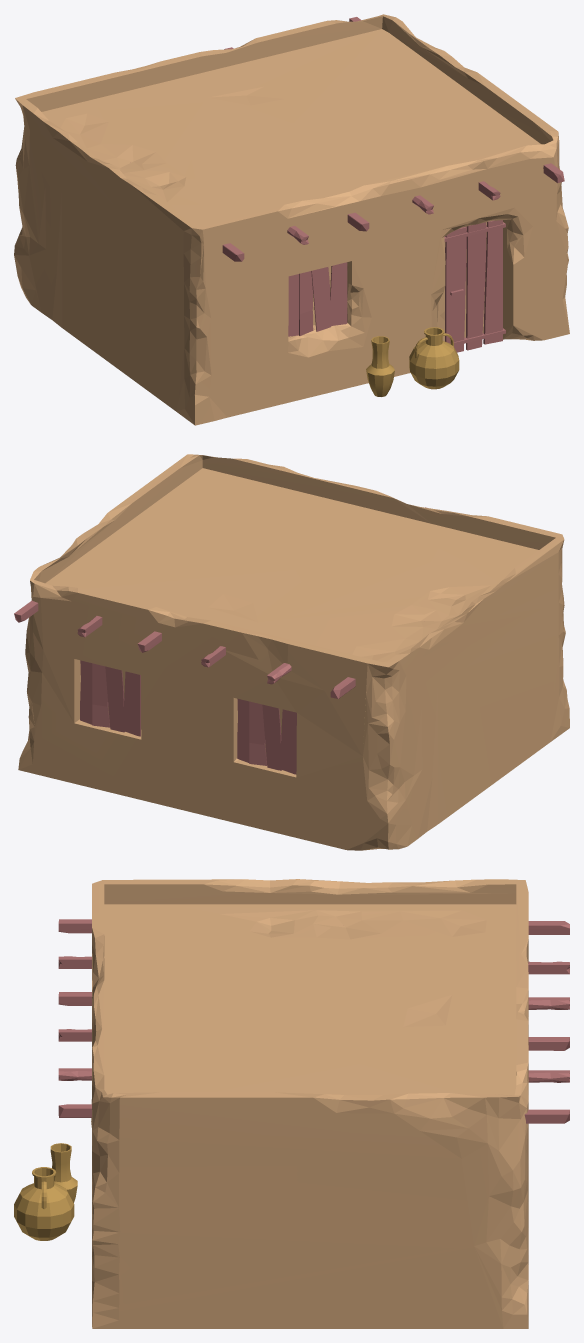
The model's file is house12.glb.
The picture shows the model from 3 angles, top to bottom: view 1: azimuth 30°, elevation 25°; view 2: azimuth 150°, elevation 25°; view 3: azimuth 270°, elevation 25°; orthographic projection. The views are drawn at different scales.
Visible parts, largest first — view 1: Object154; view 2: Object154; view 3: Object154.
Boxes of the visible parts, left/top/right/bottom form: Object154: left=14, top=14, right=569, bottom=425; Object154: left=14, top=454, right=569, bottom=850; Object154: left=14, top=879, right=569, bottom=1328.
Bounding box in the file's own units: 6.57 × 3.27 × 7.06.
